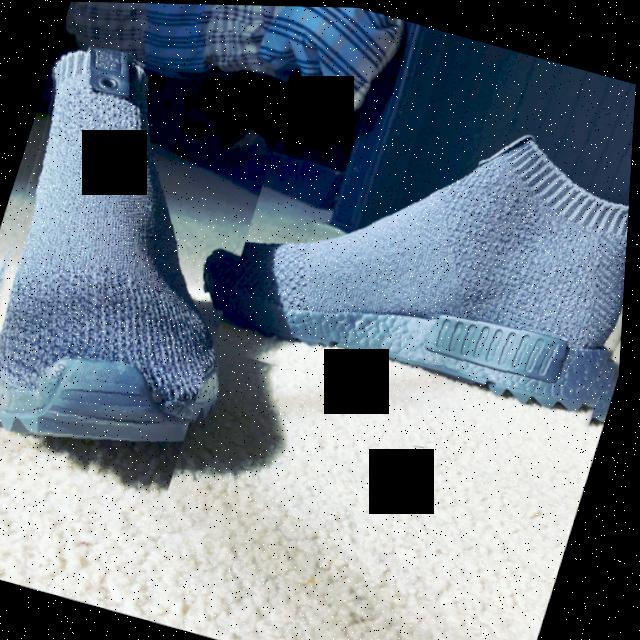shoe: (134, 42, 638, 453), (0, 33, 292, 521)
